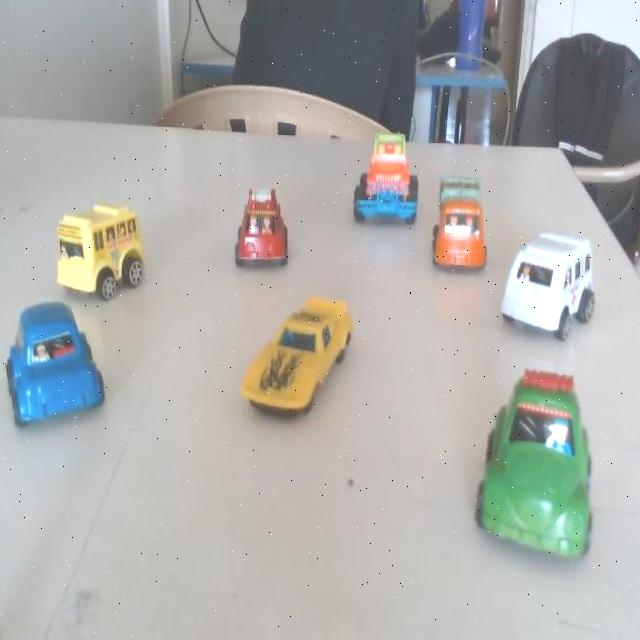car: (463, 366, 624, 559), (238, 298, 370, 420), (497, 218, 608, 356), (0, 296, 106, 434), (66, 204, 155, 307), (338, 123, 421, 227), (430, 165, 494, 279), (230, 181, 300, 281)
